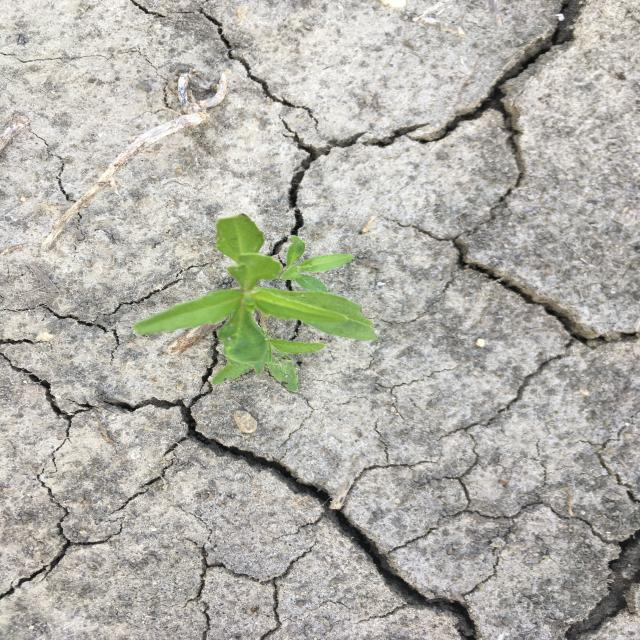Eclipta: (130, 210, 380, 394)
